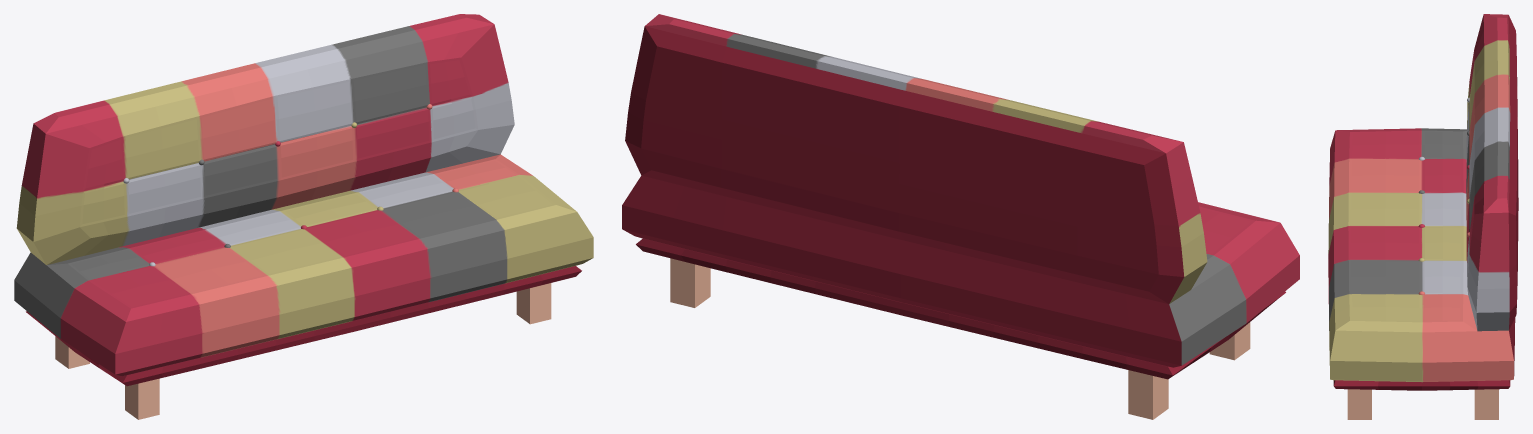
File: Sofa.fbx
3 renders of one model, left to right at view 1: azimuth 30°, elevation 25°; view 2: azimuth 150°, elevation 25°; view 3: azimuth 270°, elevation 25°, orthographic. The views are drawn at different scales.
Parts seen in each view (by area): view 1: Sofa, Sofa_Legs; view 2: Sofa, Sofa_Legs; view 3: Sofa, Sofa_Legs.
Boxes of the visible parts, x1,y1,x2,y2 form: Sofa: (14, 14, 593, 386); Sofa_Legs: (55, 283, 551, 419); Sofa: (622, 14, 1299, 379); Sofa_Legs: (670, 258, 1250, 419); Sofa: (1328, 14, 1518, 390); Sofa_Legs: (1347, 389, 1498, 419).
Bounding box in the file's own units: 334 × 159 × 124.
Materials: 1 (1 with a texture image).
